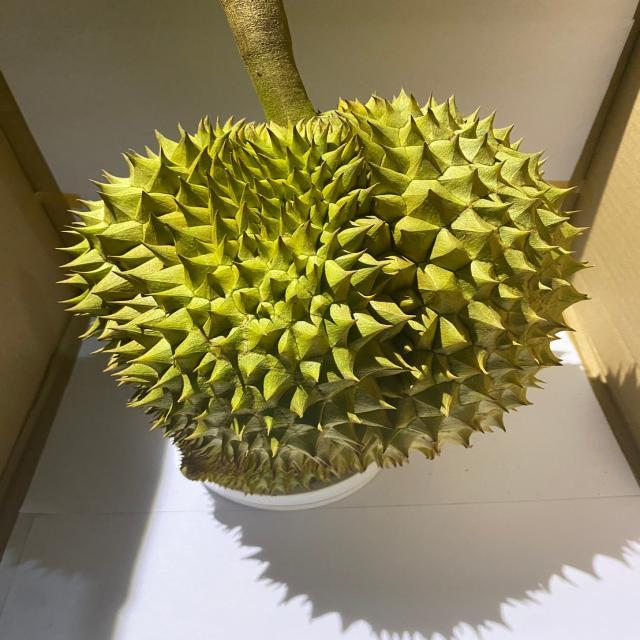immature: (51, 92, 593, 492)
